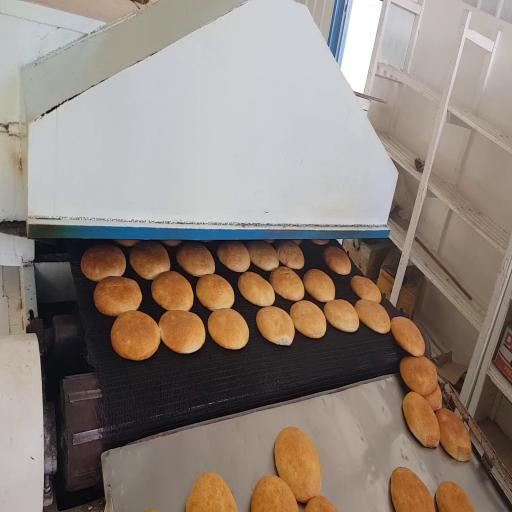bread: (275, 428, 321, 502), (111, 311, 160, 360), (403, 392, 439, 447), (159, 310, 205, 353), (186, 473, 237, 511), (391, 467, 434, 511), (94, 277, 142, 316), (435, 409, 471, 461), (251, 476, 298, 511), (208, 309, 249, 349), (81, 245, 125, 282), (152, 271, 193, 310), (130, 241, 170, 280), (256, 306, 294, 346), (400, 357, 438, 396), (196, 274, 234, 310), (290, 301, 326, 338), (391, 317, 425, 356), (355, 299, 390, 334), (238, 272, 274, 306), (177, 243, 214, 276), (270, 266, 304, 301), (324, 300, 359, 332), (436, 482, 474, 511), (303, 269, 335, 302), (217, 242, 250, 272), (246, 241, 278, 271), (276, 240, 304, 269), (351, 276, 381, 303), (324, 246, 351, 275), (305, 496, 337, 511), (425, 385, 442, 411), (115, 239, 139, 247), (161, 240, 181, 246), (312, 240, 329, 245), (294, 240, 302, 245), (265, 239, 275, 243)
